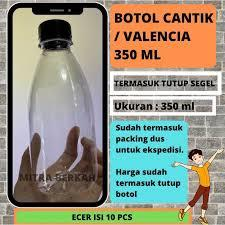BIODEGRADABLE: (27, 19, 101, 198)
